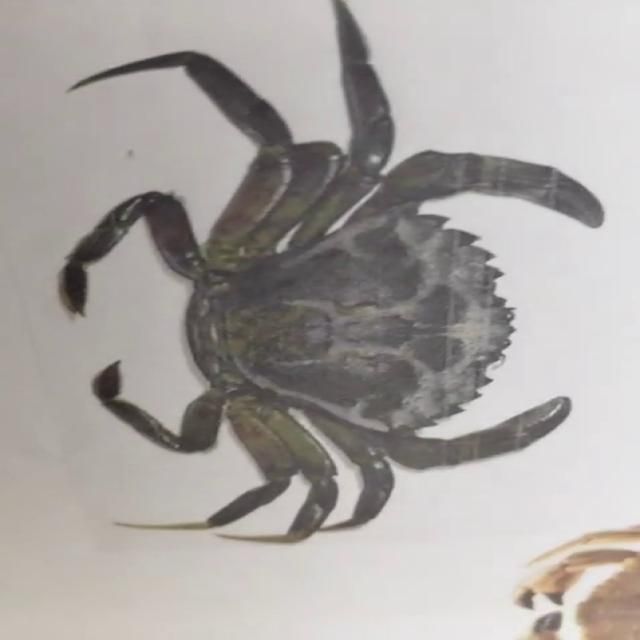egc: (62, 0, 603, 543)
